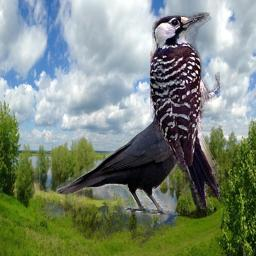Crow: (56, 92, 204, 215)
Woodpecker: (150, 12, 220, 209)
